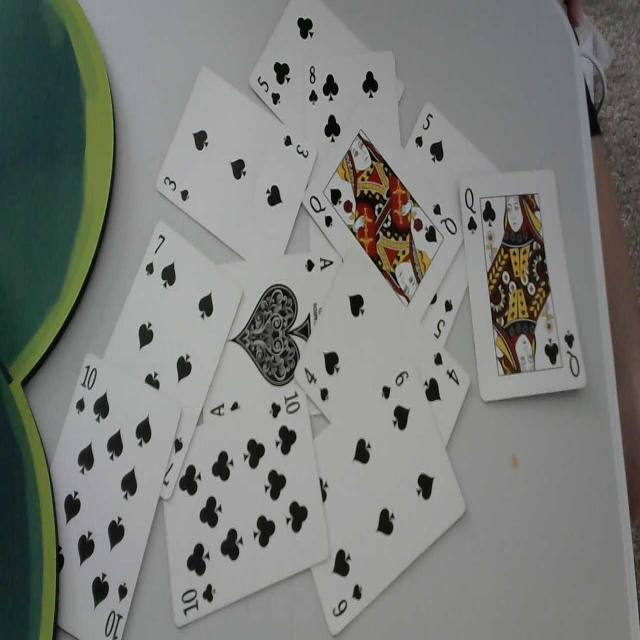10C: (181, 582, 216, 618), (268, 390, 301, 421)
10S: (103, 581, 129, 640), (75, 362, 98, 418)
3S: (163, 174, 191, 202), (283, 132, 310, 160)
4S: (303, 366, 331, 405), (432, 349, 461, 386)
5C: (257, 75, 281, 107)
5S: (432, 294, 454, 341), (415, 111, 434, 151)
6S: (331, 584, 363, 620), (380, 368, 410, 402)
7S: (145, 232, 167, 280)
8C: (308, 63, 318, 108)
AS: (304, 254, 335, 274)
QC: (562, 326, 581, 379), (463, 186, 480, 236)
QS: (431, 198, 458, 236), (309, 193, 335, 229)
